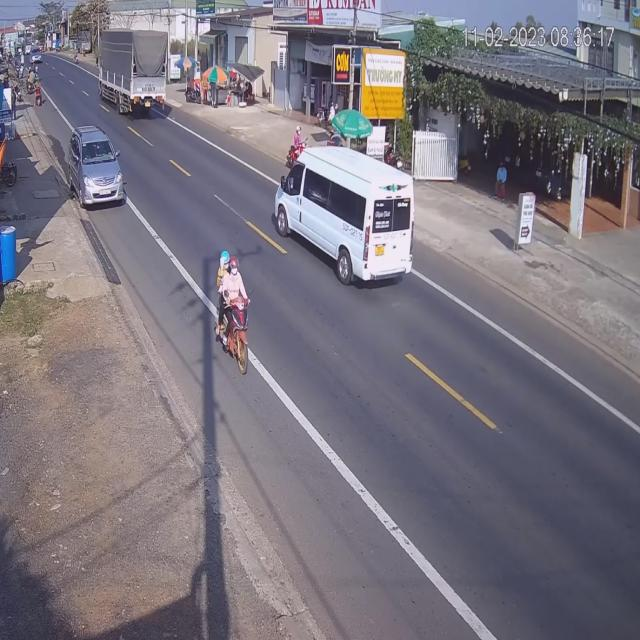bus: (274, 144, 416, 287)
car: (69, 128, 125, 210)
motorbike: (214, 248, 250, 372)
truck: (99, 26, 170, 119)
